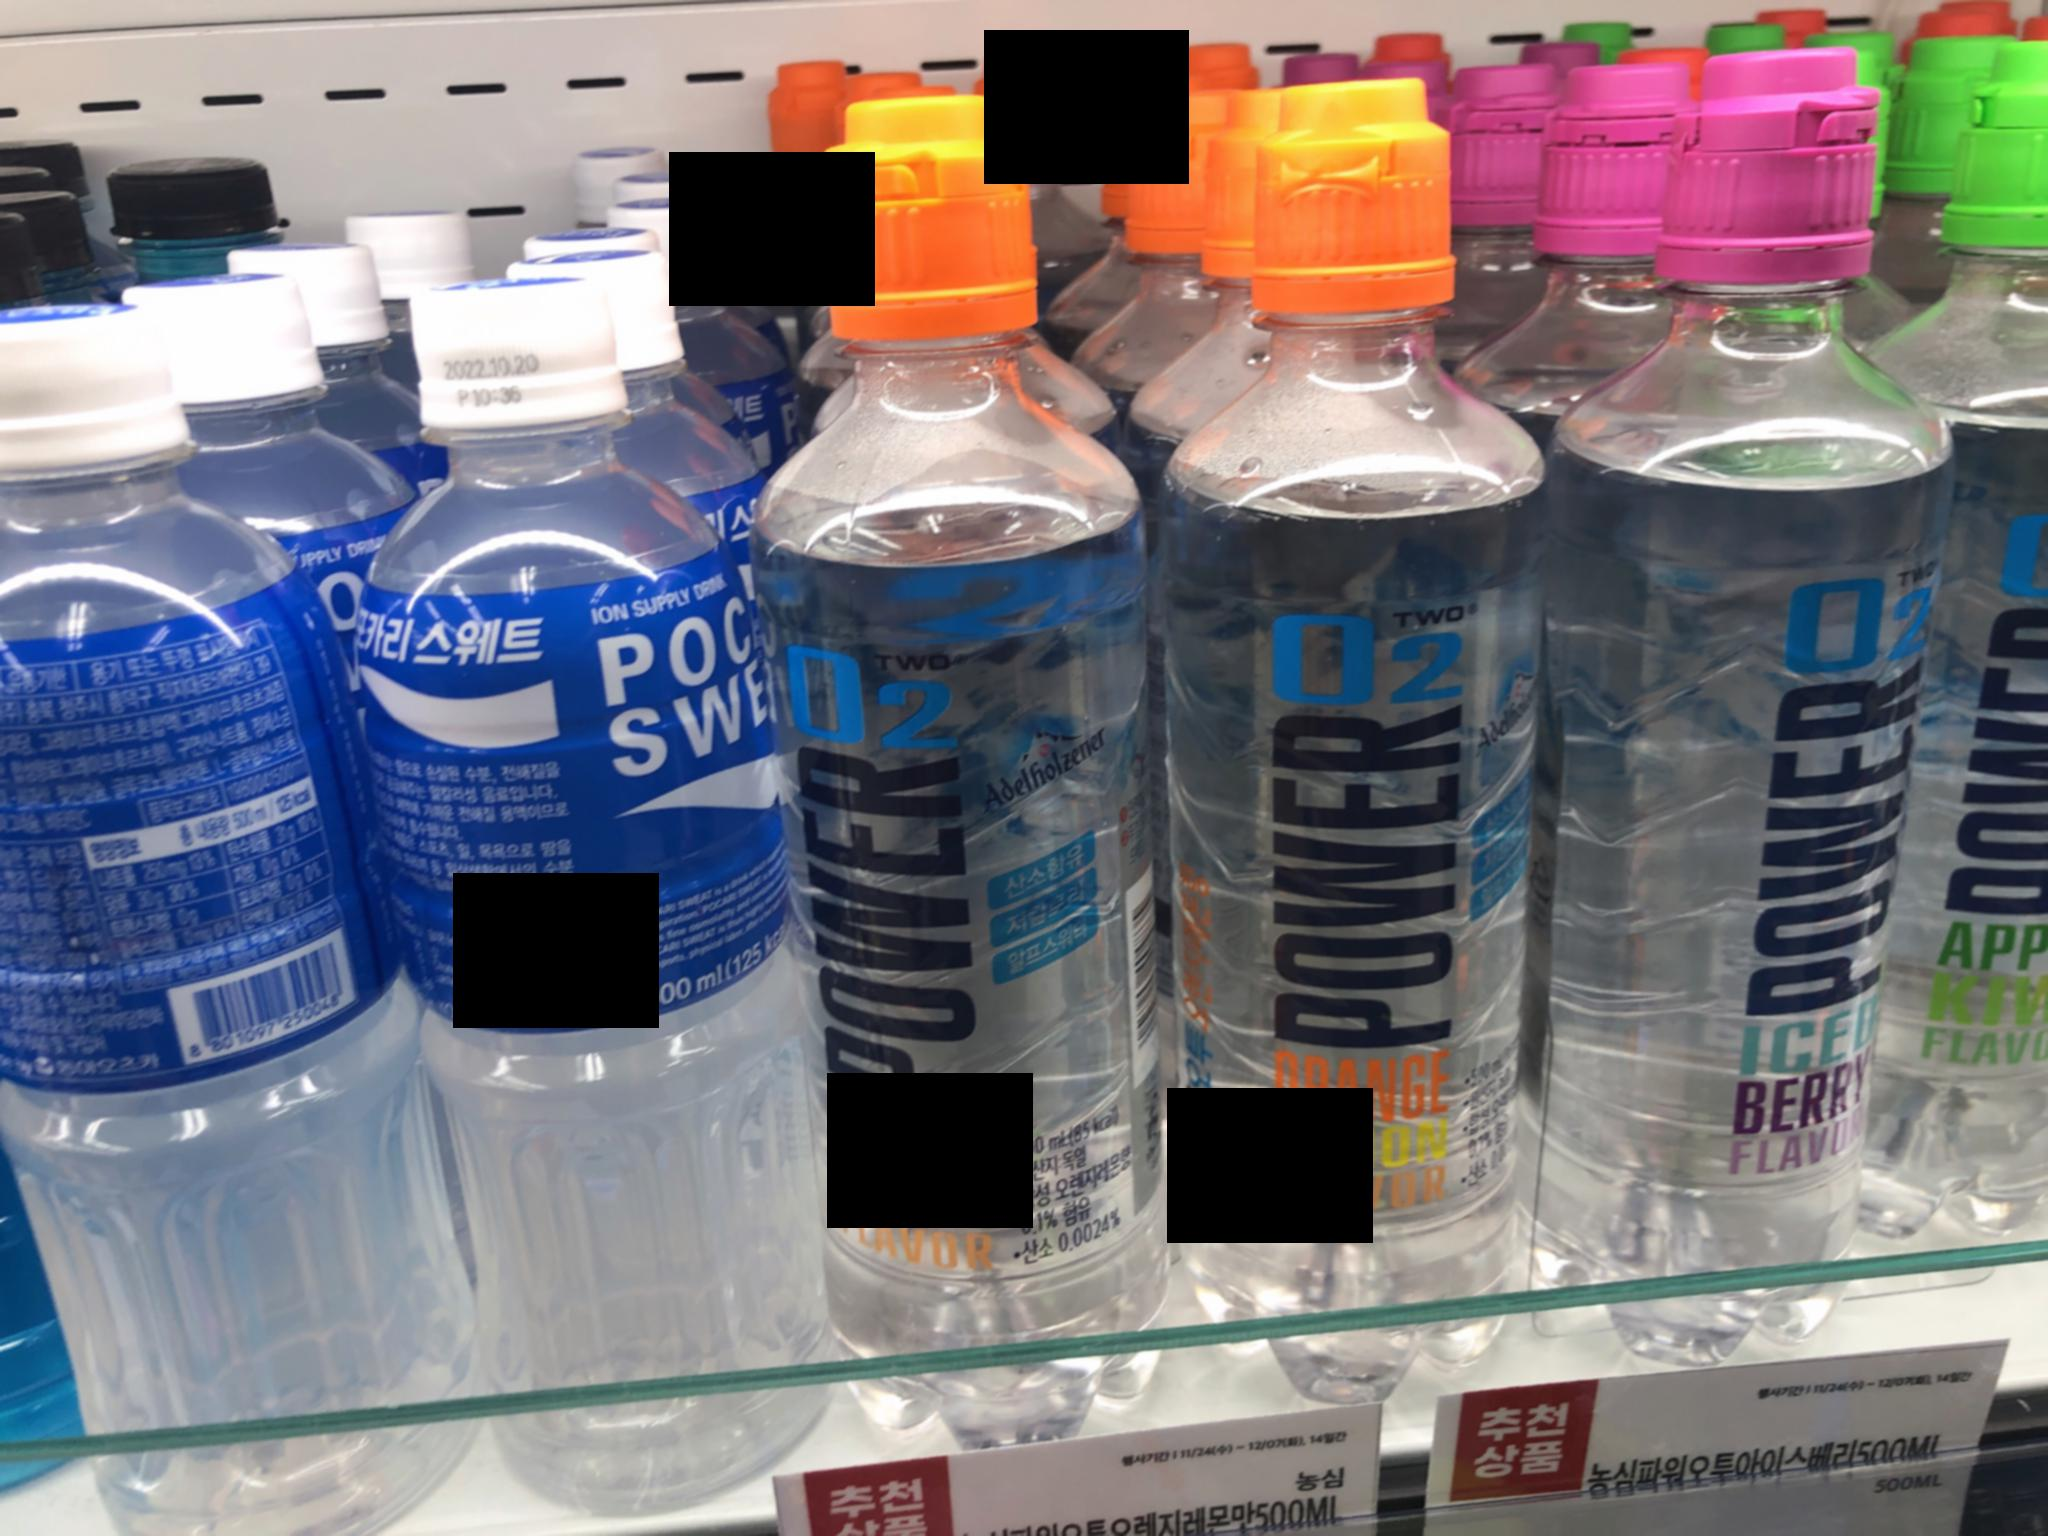pocarisweat: (264, 240, 837, 1534)
powerO2_orange: (737, 74, 1159, 1447), (1164, 65, 1529, 1412)
